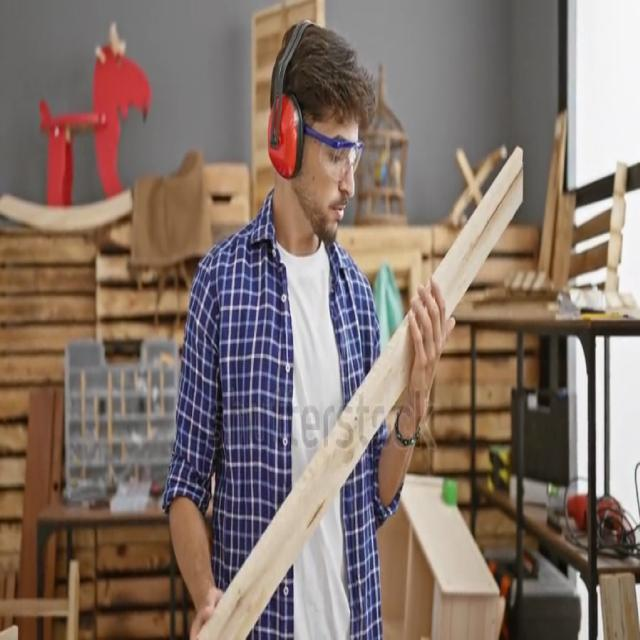Ear-Protection: (268, 80, 306, 192)
Glasses: (304, 127, 364, 182)
